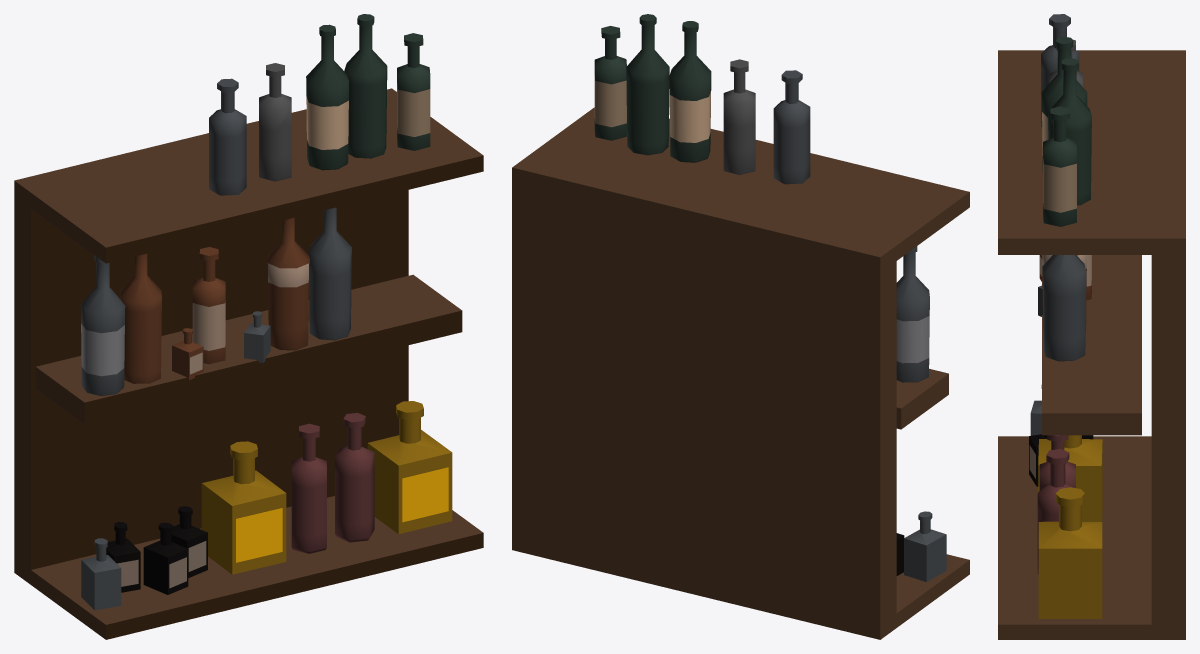
The model's file is Furnit Bar 3 1M.glb.
The picture shows the model from 3 angles, left to right: view 1: azimuth 30°, elevation 25°; view 2: azimuth 150°, elevation 25°; view 3: azimuth 270°, elevation 25°; orthographic projection. The views are drawn at different scales.
Visible parts, largest first — view 1: Furnit Bar 3 1M; view 2: Furnit Bar 3 1M; view 3: Furnit Bar 3 1M.
Boxes of the visible parts, x1=… form: Furnit Bar 3 1M: x1=14, y1=14, x2=483, y2=639; Furnit Bar 3 1M: x1=512, y1=14, x2=969, y2=639; Furnit Bar 3 1M: x1=998, y1=14, x2=1185, y2=639.
Size of what is drawn, in the model's own units: 0.992 by 1.32 by 0.4175.
1 material, 1 textured.
